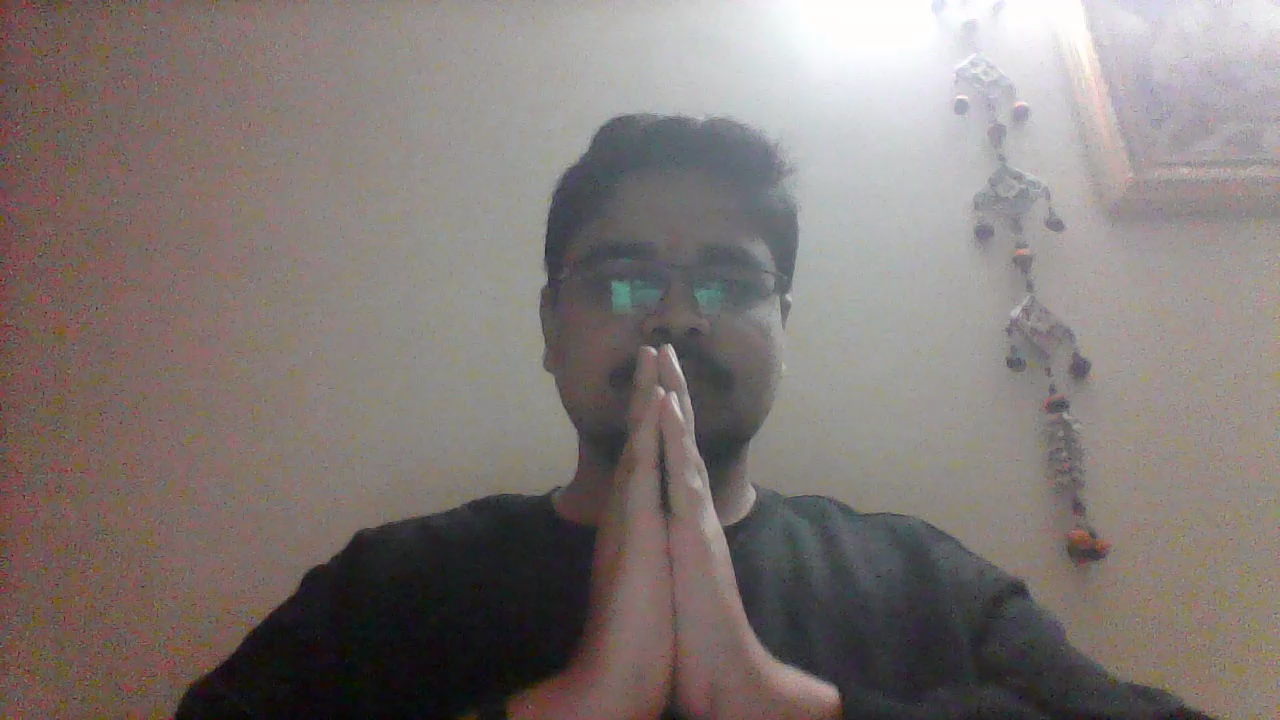Namaste: (511, 341, 831, 720)
